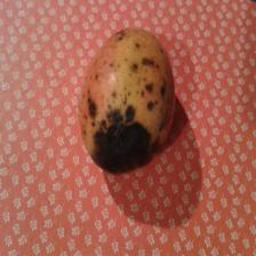Mango Semirotten: (74, 20, 182, 178)
